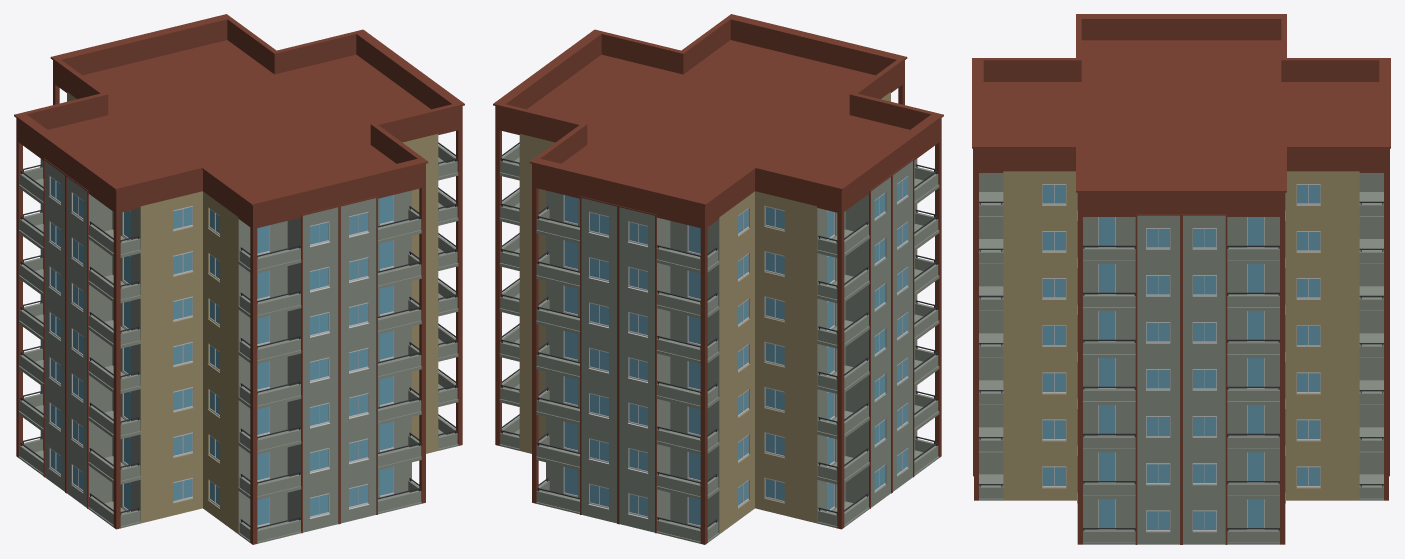
Rendered from Apartment2Final.fbx.
3 views of the same model, side by side, from view 1: azimuth 30°, elevation 25°; view 2: azimuth 150°, elevation 25°; view 3: azimuth 270°, elevation 25° (orthographic). The views are drawn at different scales.
Visible parts, largest first — view 1: Plane; view 2: Plane; view 3: Plane.
Part boxes in pixels (<box>): Plane: <box>14,14,464,544</box>; Plane: <box>493,14,943,544</box>; Plane: <box>972,14,1390,544</box>.
Bounding box in the file's own units: 2420 × 2260 × 2420.
